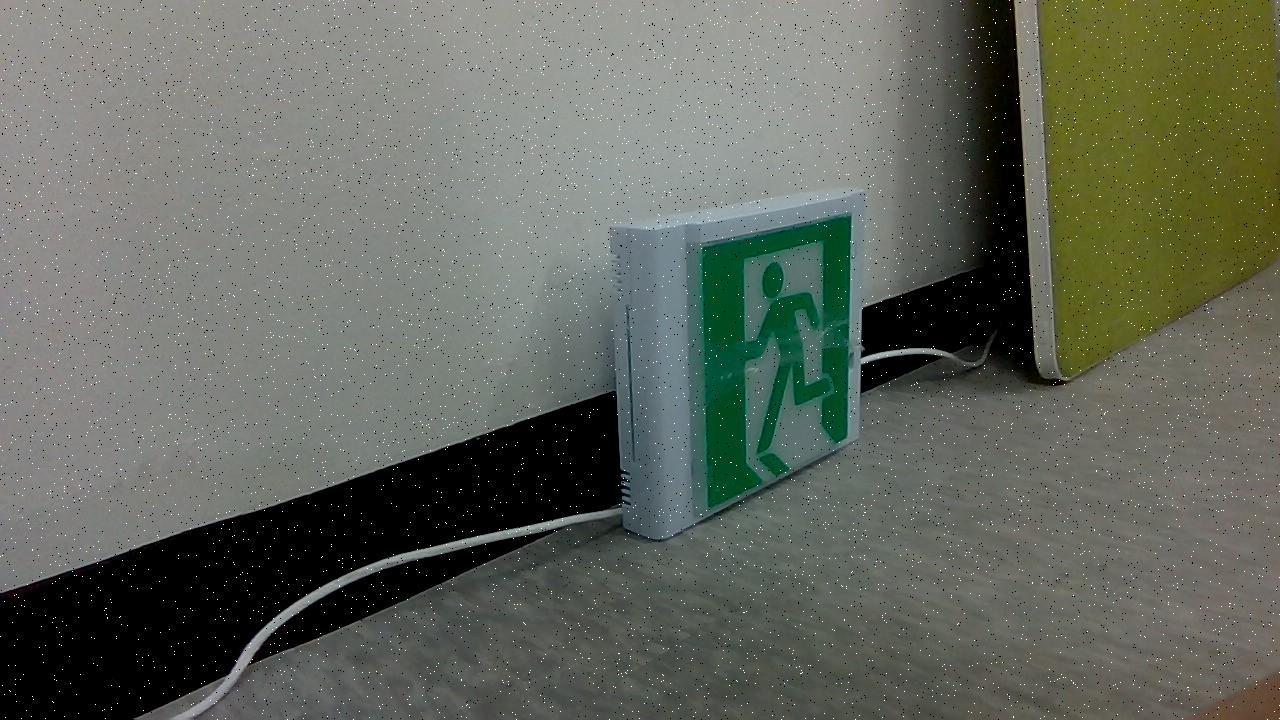emergency_exit: (608, 189, 867, 541)
